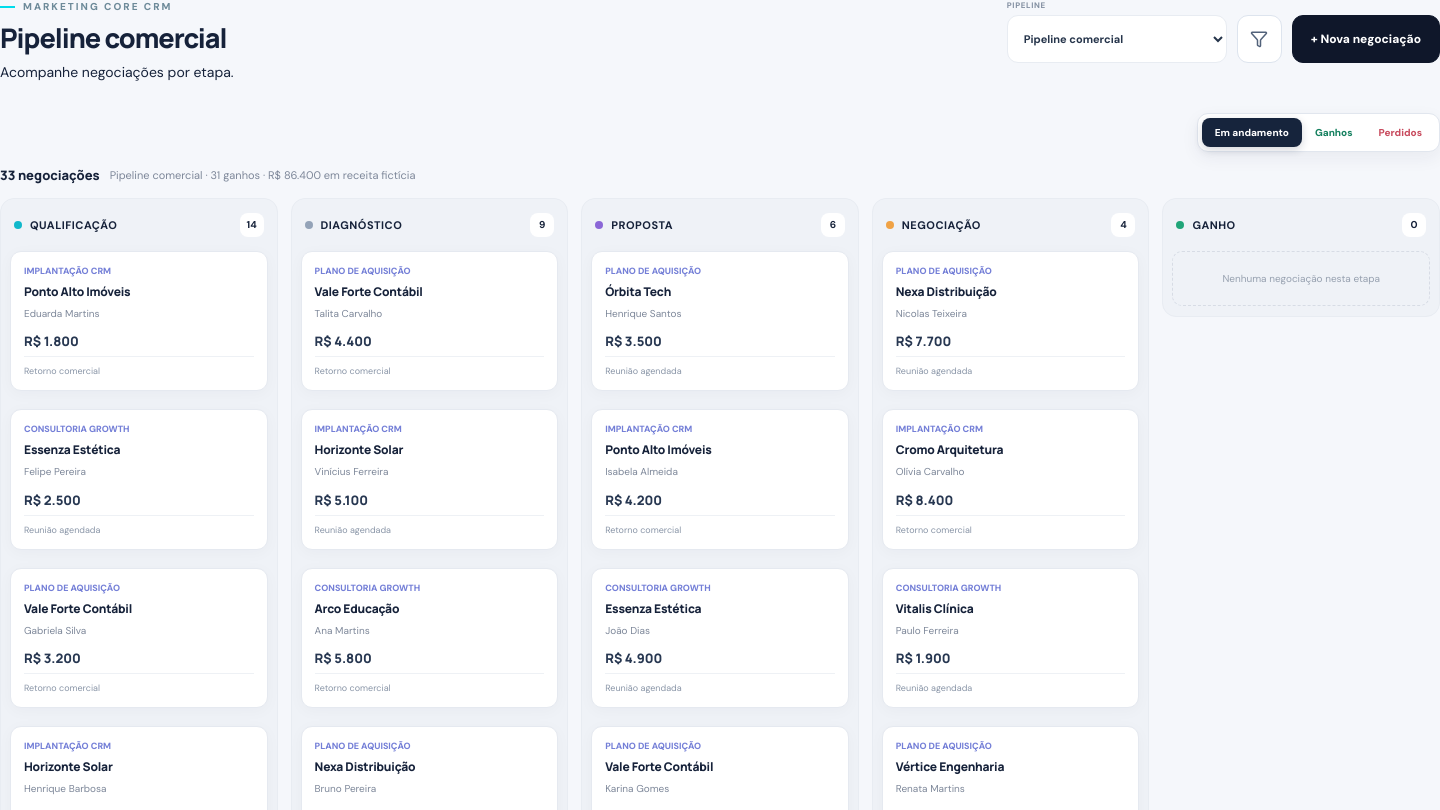
configuração de pipelines › edita a negociação e abre o perfil do lead vinculado
The width and height of the screenshot is (1440, 810).
Click the heading "Ponto Alto Imóveis" below "Qualificação" at [77, 291], box x1=24 y1=283 x2=130 y2=300
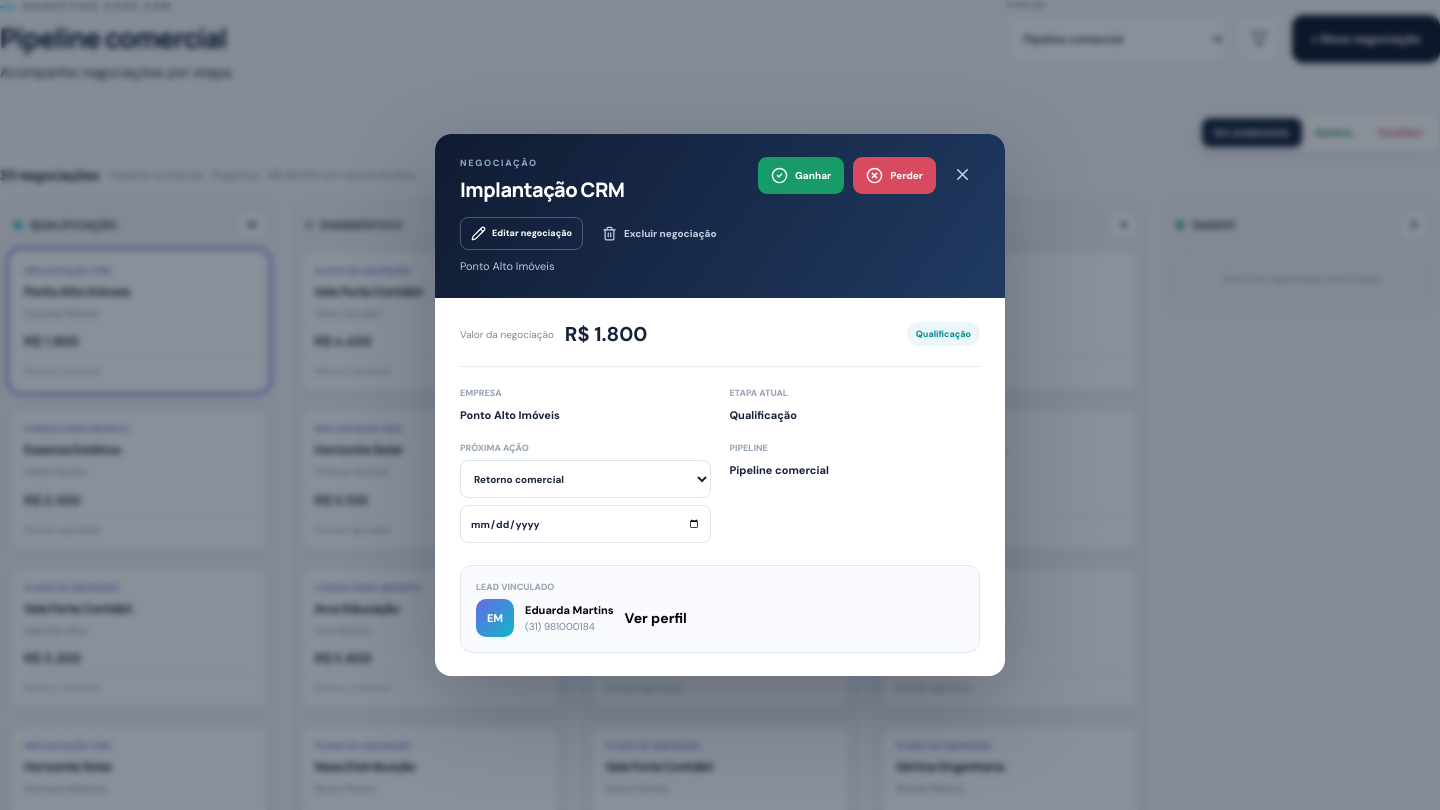
Click the button "Editar negociação" at [522, 234], box x1=460 y1=217 x2=583 y2=250
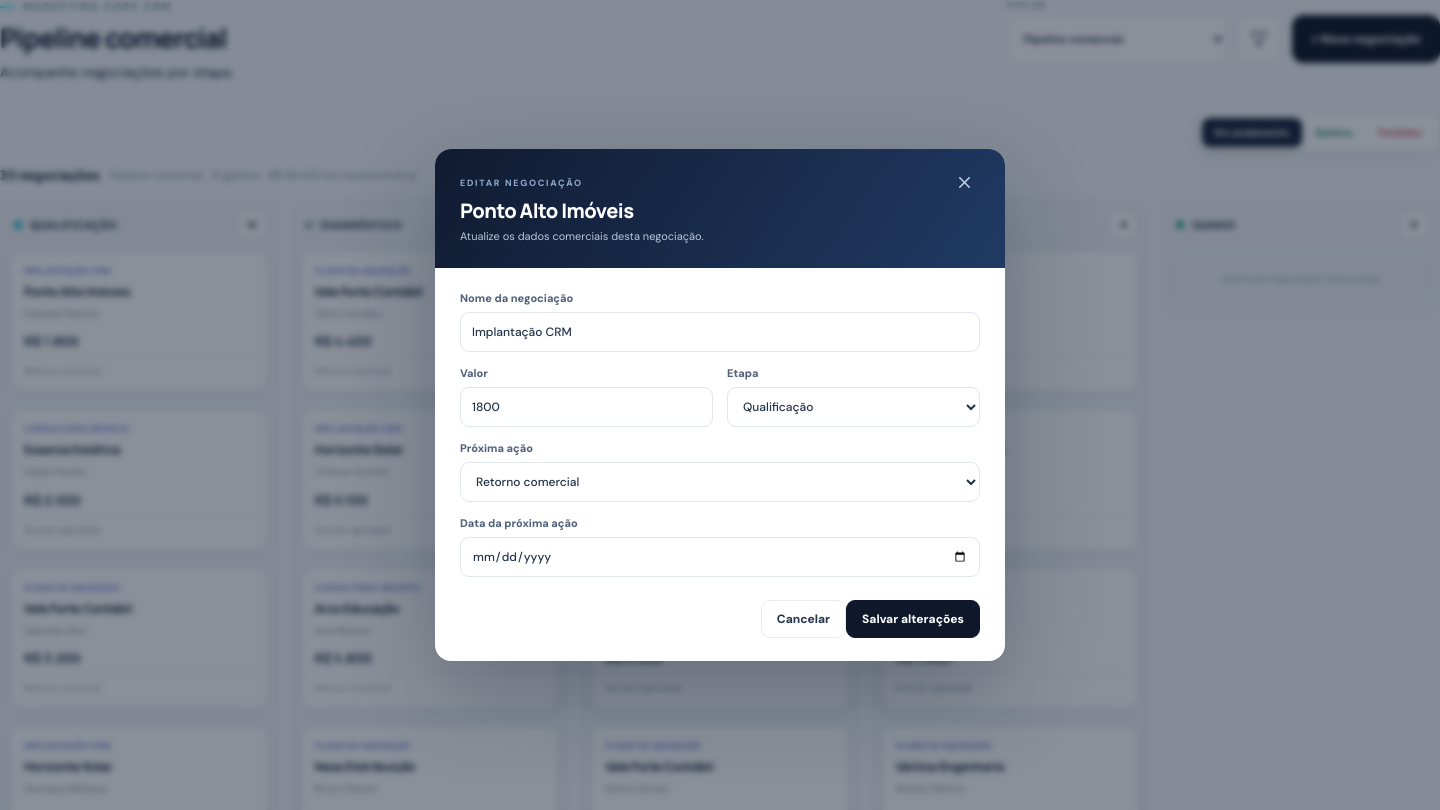
Select "Enviar contrato" in the dropdown named "Próxima ação da negociação" at [720, 482], box x1=460 y1=462 x2=980 y2=502
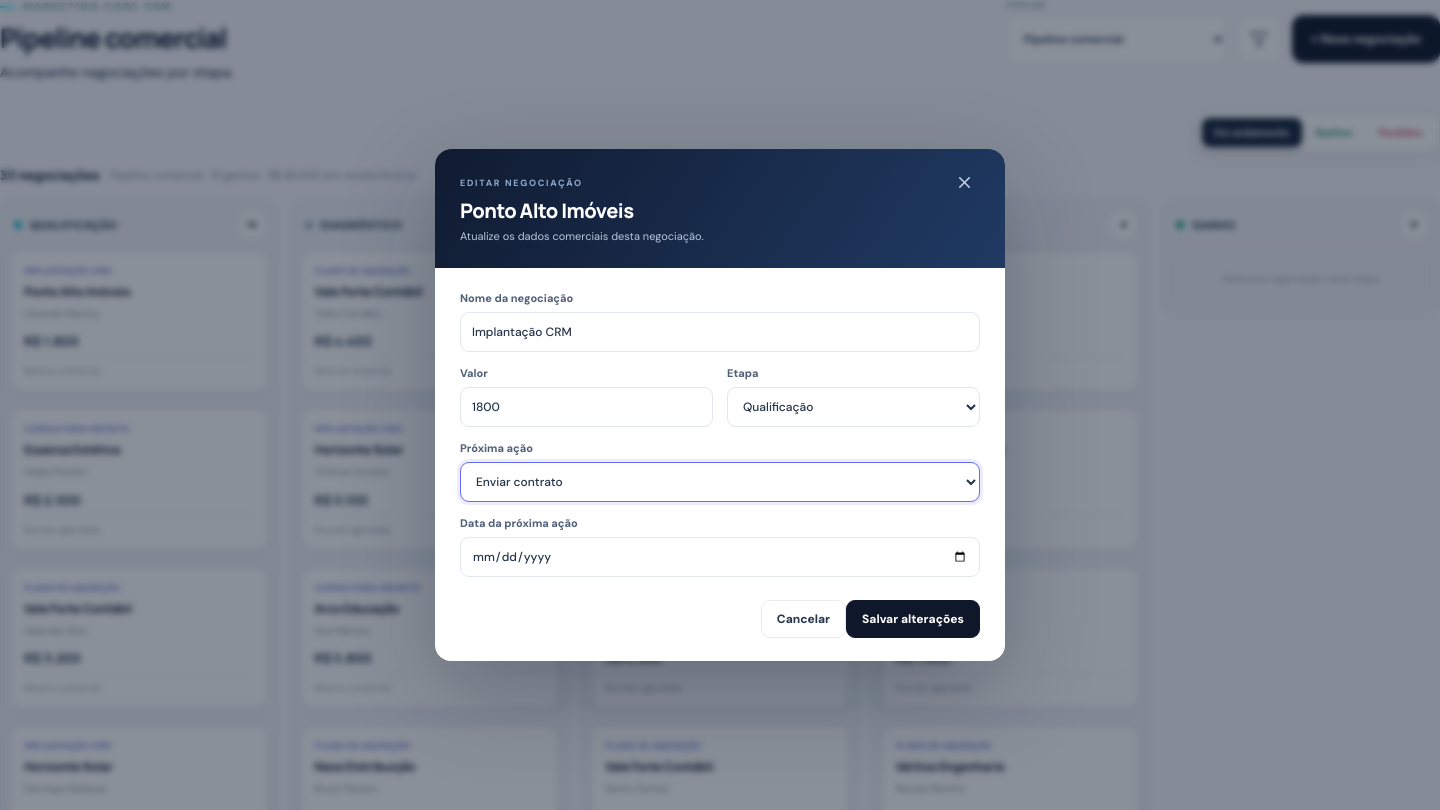
Type "2026-10-30" into the date field named "Data da próxima ação na edição" at [720, 557], box x1=460 y1=537 x2=980 y2=577
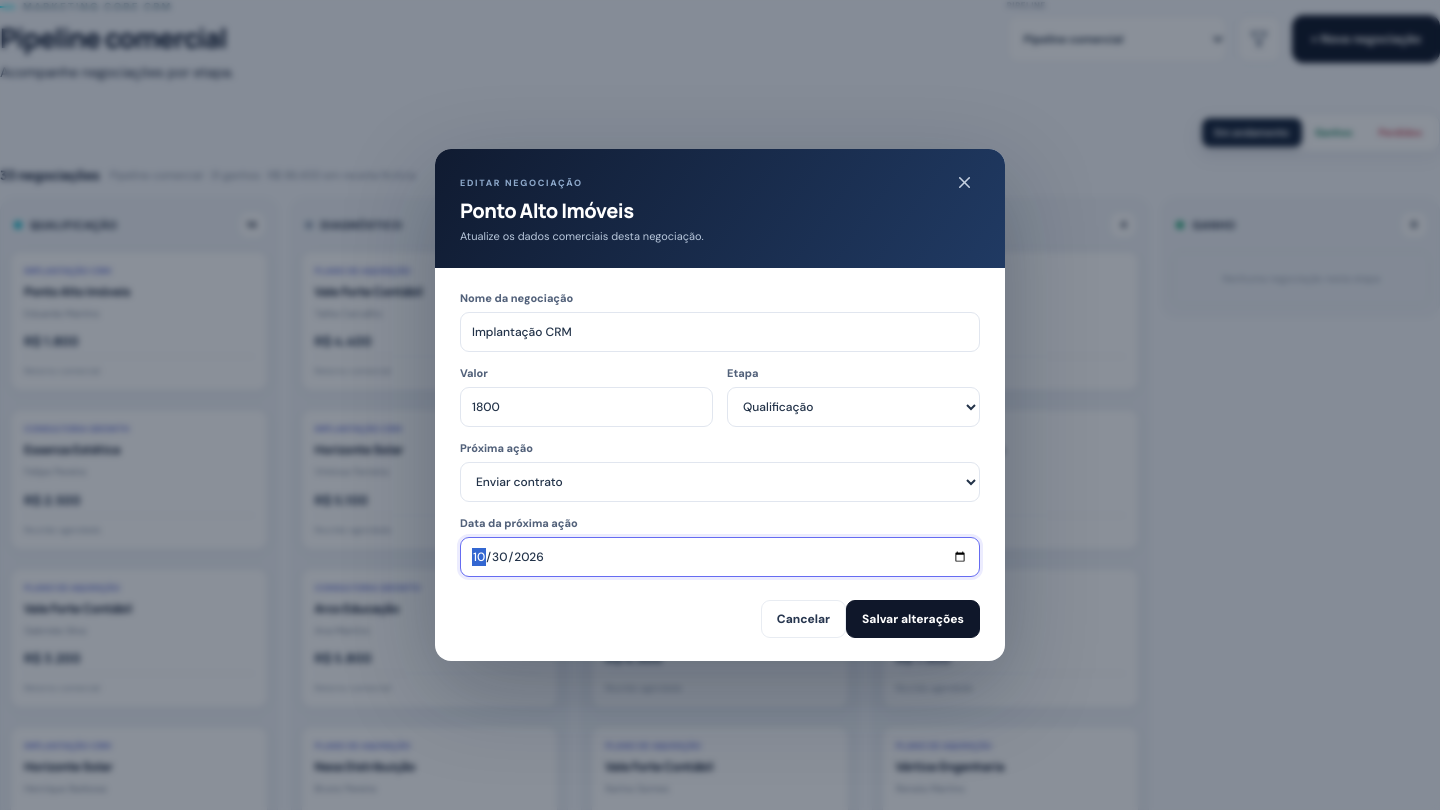
Click the button "Salvar alterações" at [913, 619], box x1=846 y1=600 x2=980 y2=638
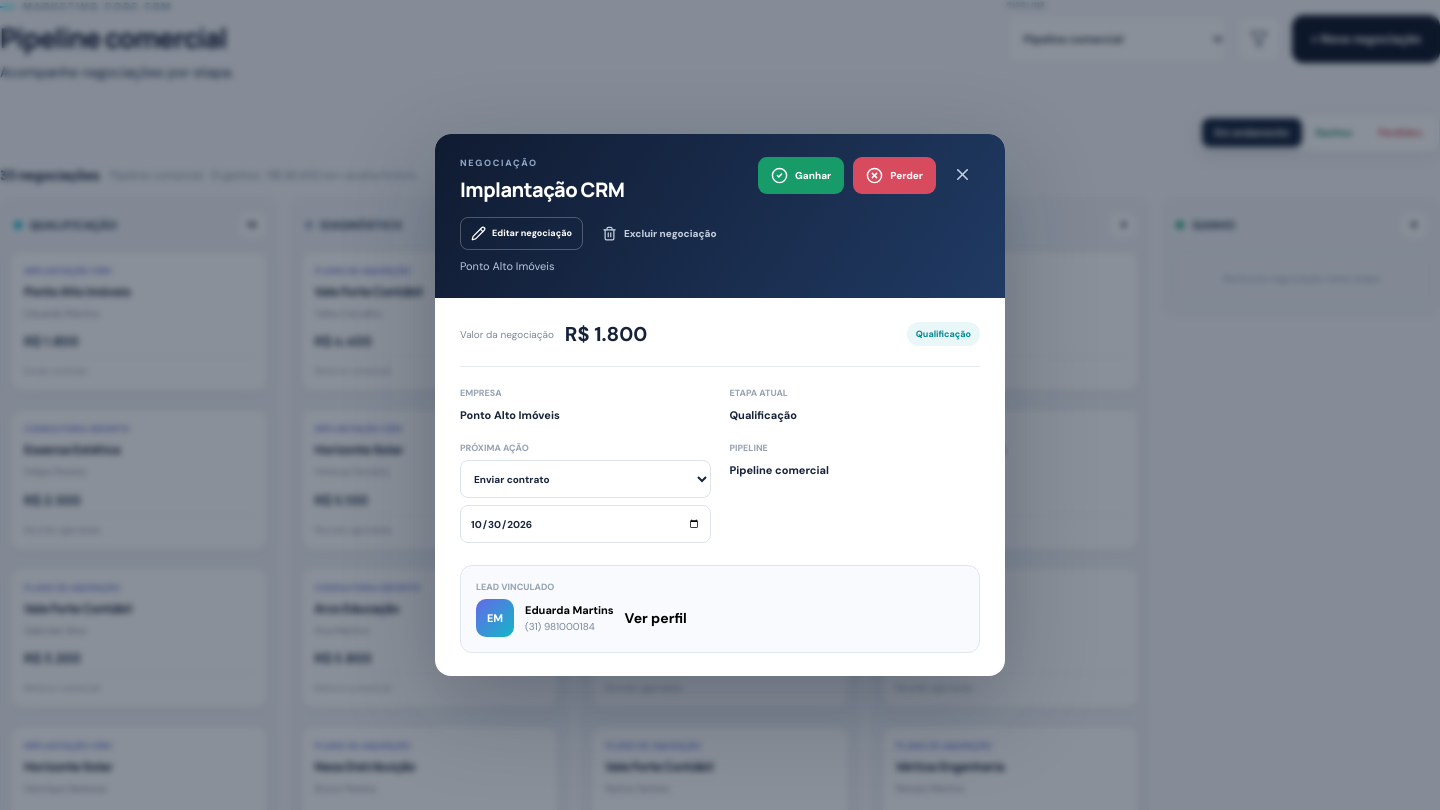
Click the button with aria-label "Abrir perfil do lead" at [515, 587], box x1=460 y1=565 x2=980 y2=653
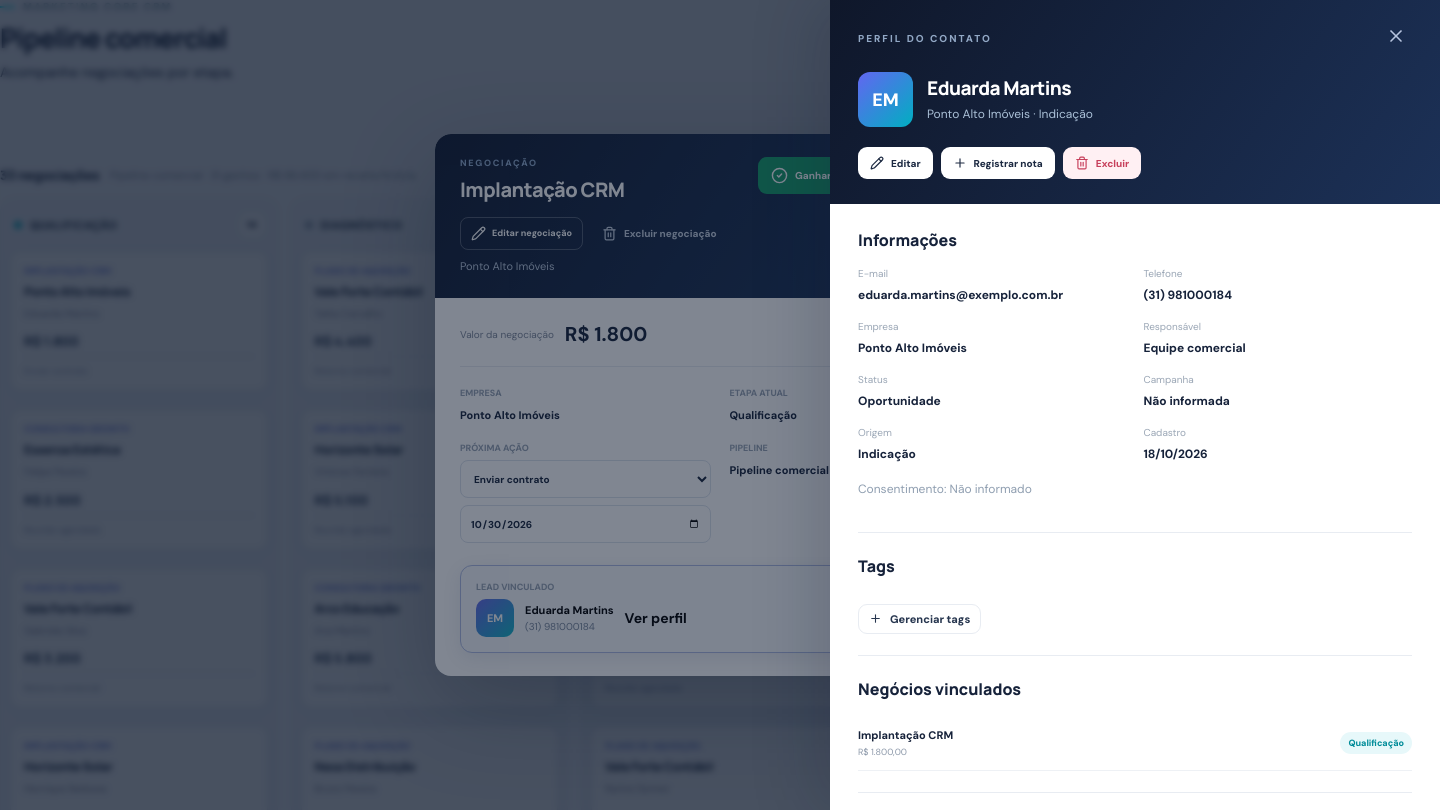
Check: the dialog named "Detalhes de Eduarda Martins" is shown, box x1=830 y1=0 x2=1439 y2=809
